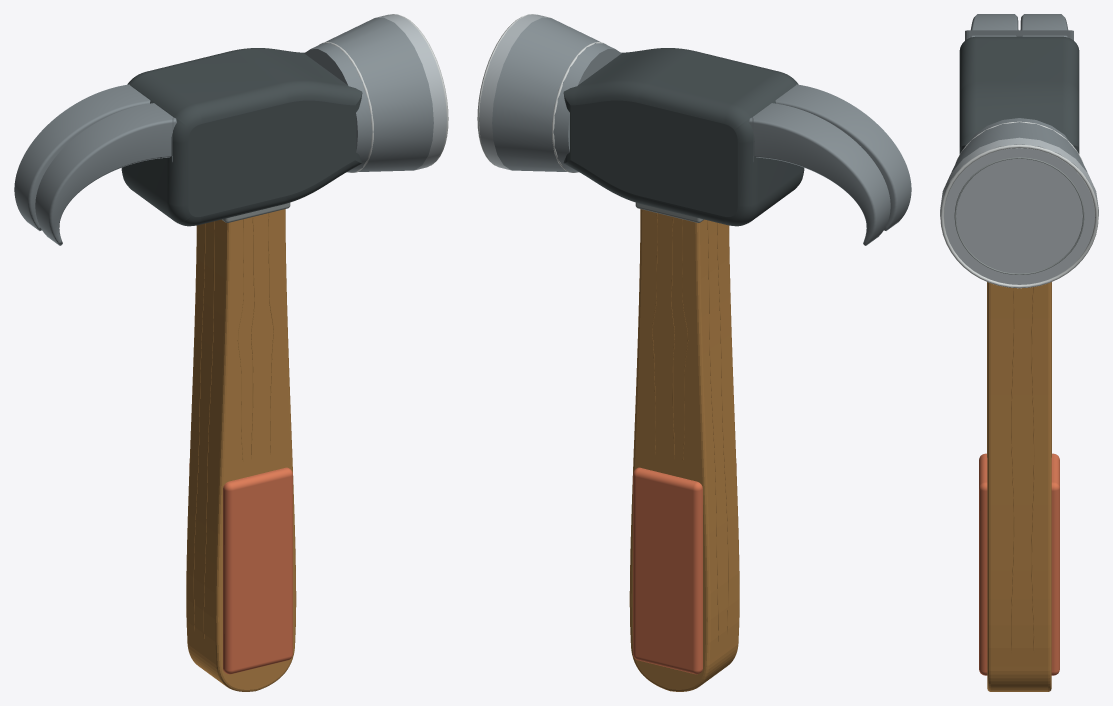
Rendered from workshop-hammer-softened.glb.
3 views of the same model, side by side, from view 1: azimuth 30°, elevation 25°; view 2: azimuth 150°, elevation 25°; view 3: azimuth 270°, elevation 25° (orthographic).
Visible parts, largest first — view 1: Wood_Handle, steelInset, Grip_Front, steel, Claw_Back, Claw_Front, steelEdge; view 2: Wood_Handle, steelInset, Grip_Back, steel, Claw_Front, Claw_Back, steelEdge; view 3: Wood_Handle, steelEdge, steelInset, steel, Grip_Front, Grip_Back, Polished_Striking_Rim, Claw_Front, Claw_Back, Machined_Face_Groove, Side_Wood_Right_2, Side_Wood_Right_5.
Part boxes in pixels (x1=…): Wood_Handle: x1=186, y1=209, x2=296, y2=691; steelInset: x1=121, y1=48, x2=362, y2=226; Grip_Front: x1=223, y1=467, x2=292, y2=674; steel: x1=172, y1=17, x2=433, y2=172; Claw_Back: x1=35, y1=103, x2=176, y2=245; Claw_Front: x1=14, y1=84, x2=150, y2=230; steelEdge: x1=375, y1=14, x2=446, y2=170; Wood_Handle: x1=629, y1=209, x2=739, y2=691; steelInset: x1=563, y1=48, x2=804, y2=226; Grip_Back: x1=633, y1=467, x2=702, y2=674; steel: x1=492, y1=17, x2=753, y2=172; Claw_Front: x1=749, y1=103, x2=890, y2=245; Claw_Back: x1=775, y1=84, x2=911, y2=230; steelEdge: x1=479, y1=14, x2=550, y2=170; Wood_Handle: x1=987, y1=282, x2=1051, y2=691; steelEdge: x1=940, y1=137, x2=1098, y2=284; steelInset: x1=959, y1=36, x2=1079, y2=153; steel: x1=951, y1=30, x2=1087, y2=172; Grip_Front: x1=979, y1=453, x2=987, y2=675; Grip_Back: x1=1051, y1=453, x2=1059, y2=675; Polished_Striking_Rim: x1=940, y1=144, x2=1098, y2=288; Claw_Front: x1=1020, y1=14, x2=1068, y2=37; Claw_Back: x1=970, y1=14, x2=1018, y2=37; Machined_Face_Groove: x1=954, y1=157, x2=1084, y2=274; Side_Wood_Right_2: x1=1031, y1=287, x2=1034, y2=652; Side_Wood_Right_5: x1=1011, y1=288, x2=1014, y2=652.
Bounding box in the file's own units: 0.2603 × 0.408 × 0.094.
